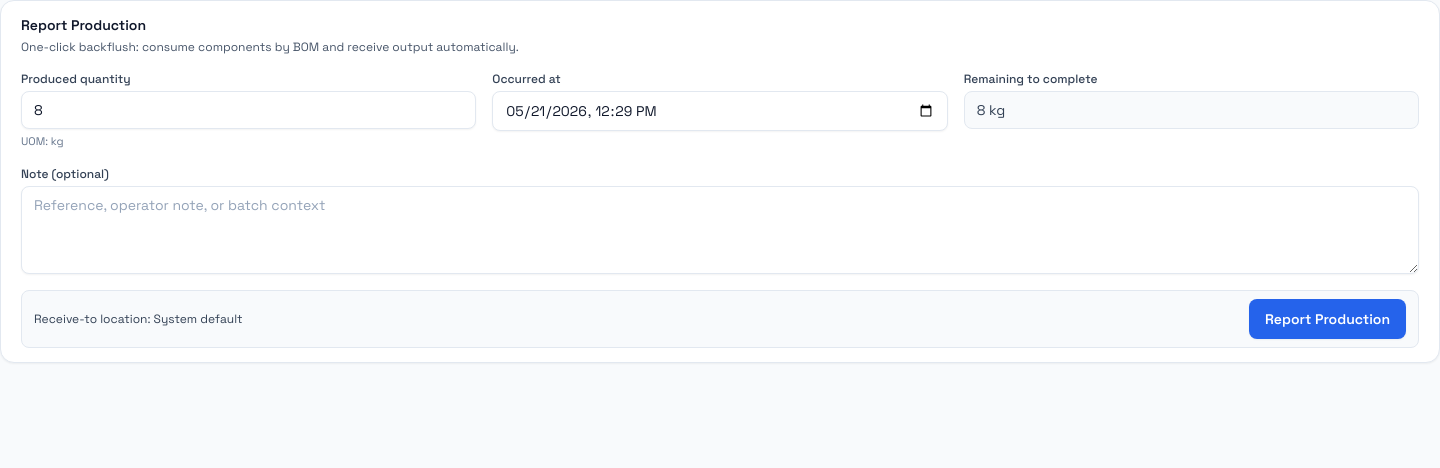
Test: ReportProductionForm › renders success alert on successful submission
What coordinates should you click on to do the following:
click the button "Report Production"
I would click on:
 (1328, 318)
Its box is [1249,298,1406,338].
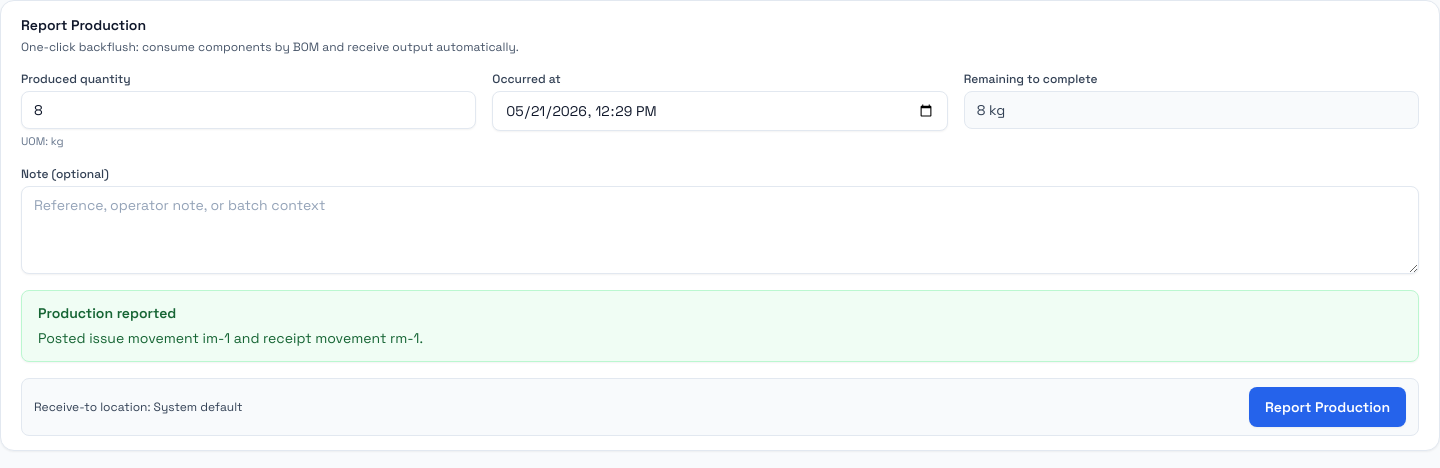
Result: the text "Production reported" is shown at [38,304,176,322]
Result: the text "Posted issue movement im-1 and receipt movement rm-1." is shown at [38,328,423,346]
